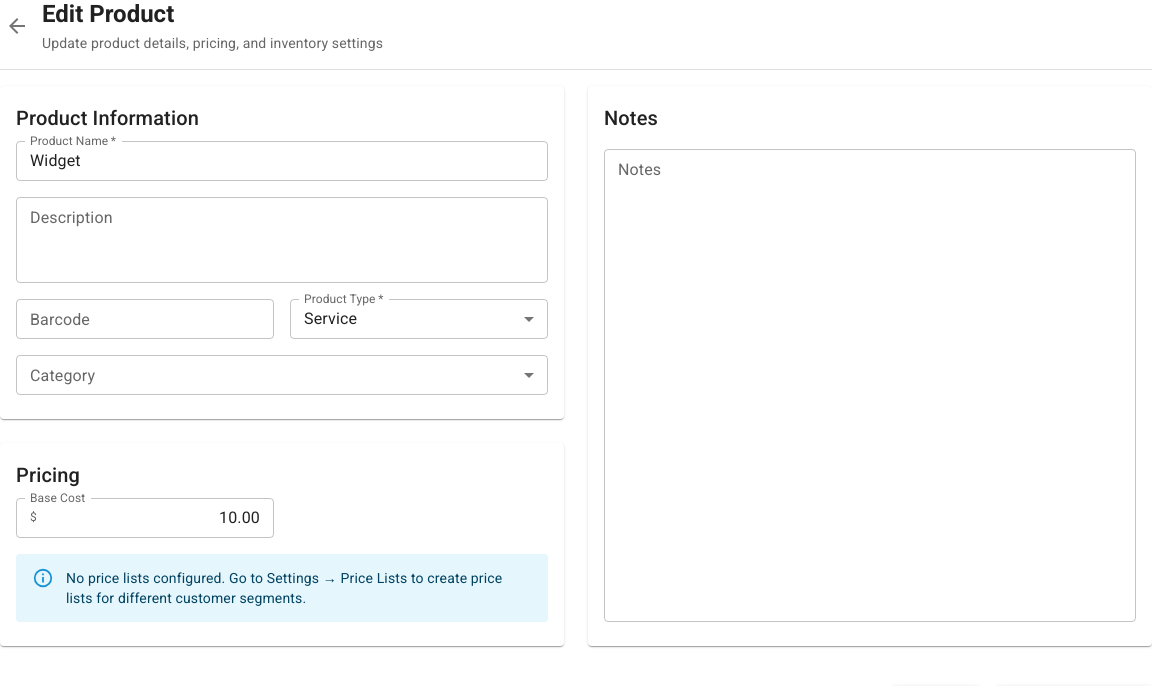
CreateProductPage type change › shows "start at 0 / Stock Adjustments" copy on Service→Stocked in edit mode
Expected: the field showing "Widget" is shown, [16, 141, 548, 181]
What coordinates should you click on to do the following:
click the dropdown named "Product Type"
I would click on:
 (331, 319)
Its box is [304, 309, 357, 328].
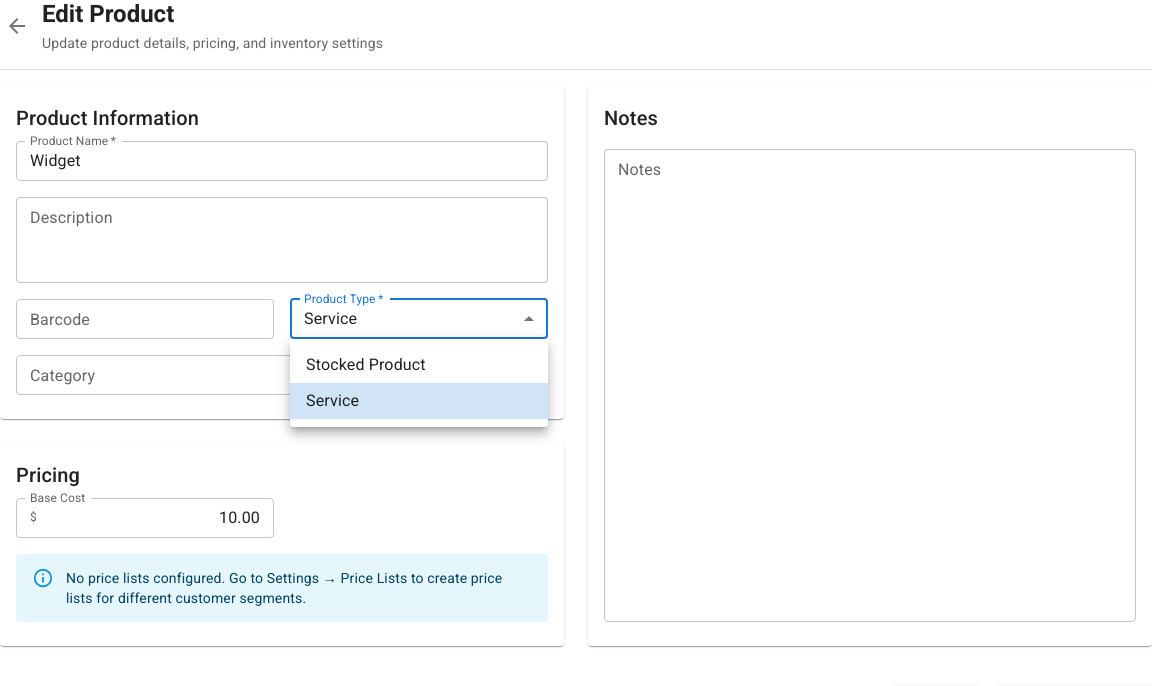
What coordinates should you click on to do the following:
click the option "Stocked Product"
I would click on:
 (366, 364)
Its box is [306, 355, 426, 374].
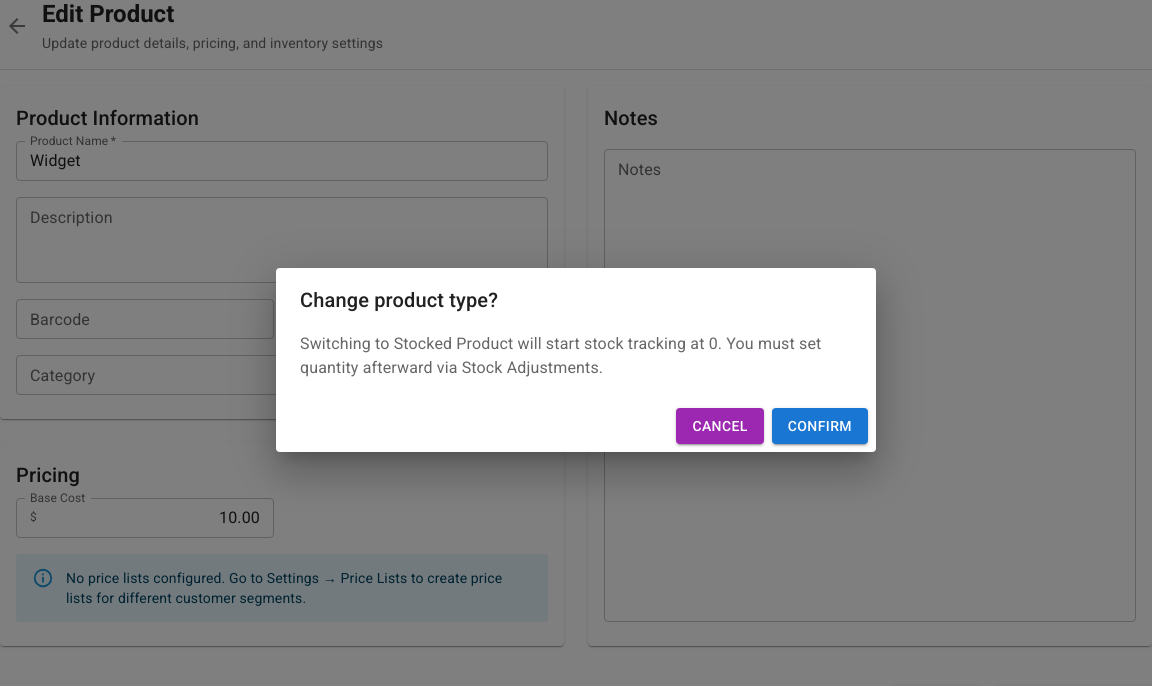
Expected: the text "start stock tracking at 0. You must set quantity afterward via Stock Adjustments." is shown, [300, 334, 822, 377]
